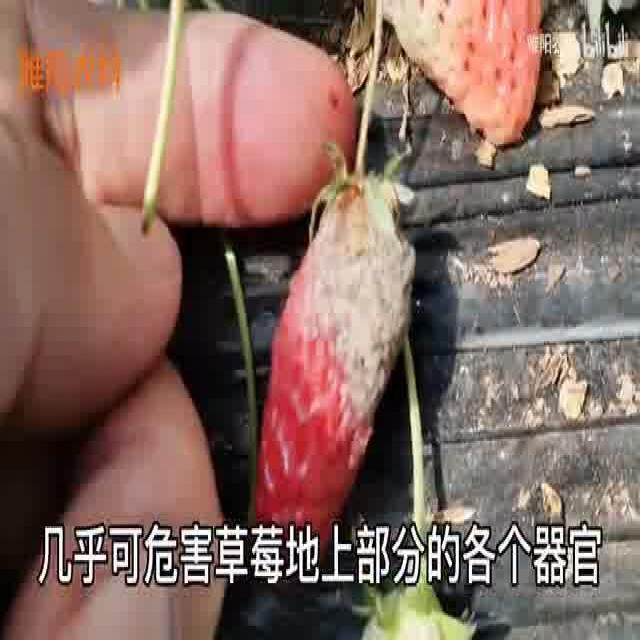Moho gris: (249, 174, 429, 566)
